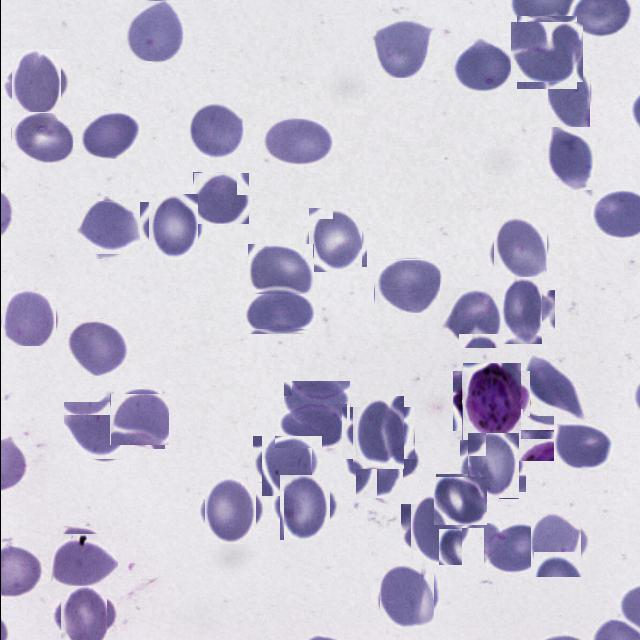red blood cell: (512, 19, 580, 86), (65, 398, 128, 462), (371, 17, 434, 79), (346, 402, 408, 464), (198, 478, 260, 540), (440, 288, 502, 350), (522, 356, 586, 416), (348, 431, 409, 492), (124, 0, 185, 61), (404, 500, 466, 560), (262, 116, 336, 166), (376, 565, 436, 626), (240, 288, 319, 334), (489, 219, 549, 279), (54, 530, 114, 590), (373, 259, 439, 313), (6, 54, 65, 114), (257, 432, 316, 492), (304, 211, 364, 270), (463, 436, 522, 496), (68, 319, 130, 376), (448, 37, 512, 92), (489, 408, 553, 461), (483, 523, 549, 574), (275, 478, 333, 536), (143, 198, 201, 256), (79, 198, 137, 256), (526, 516, 584, 574), (187, 103, 244, 161), (248, 244, 314, 294), (546, 128, 596, 192), (11, 112, 72, 164), (274, 404, 346, 448), (77, 110, 141, 159), (110, 392, 166, 448), (547, 54, 589, 127), (0, 291, 55, 346), (552, 420, 612, 470), (493, 284, 548, 338), (192, 172, 248, 224), (54, 588, 110, 640), (282, 380, 349, 422), (434, 476, 484, 527)
trophozoite: (456, 368, 524, 436)
